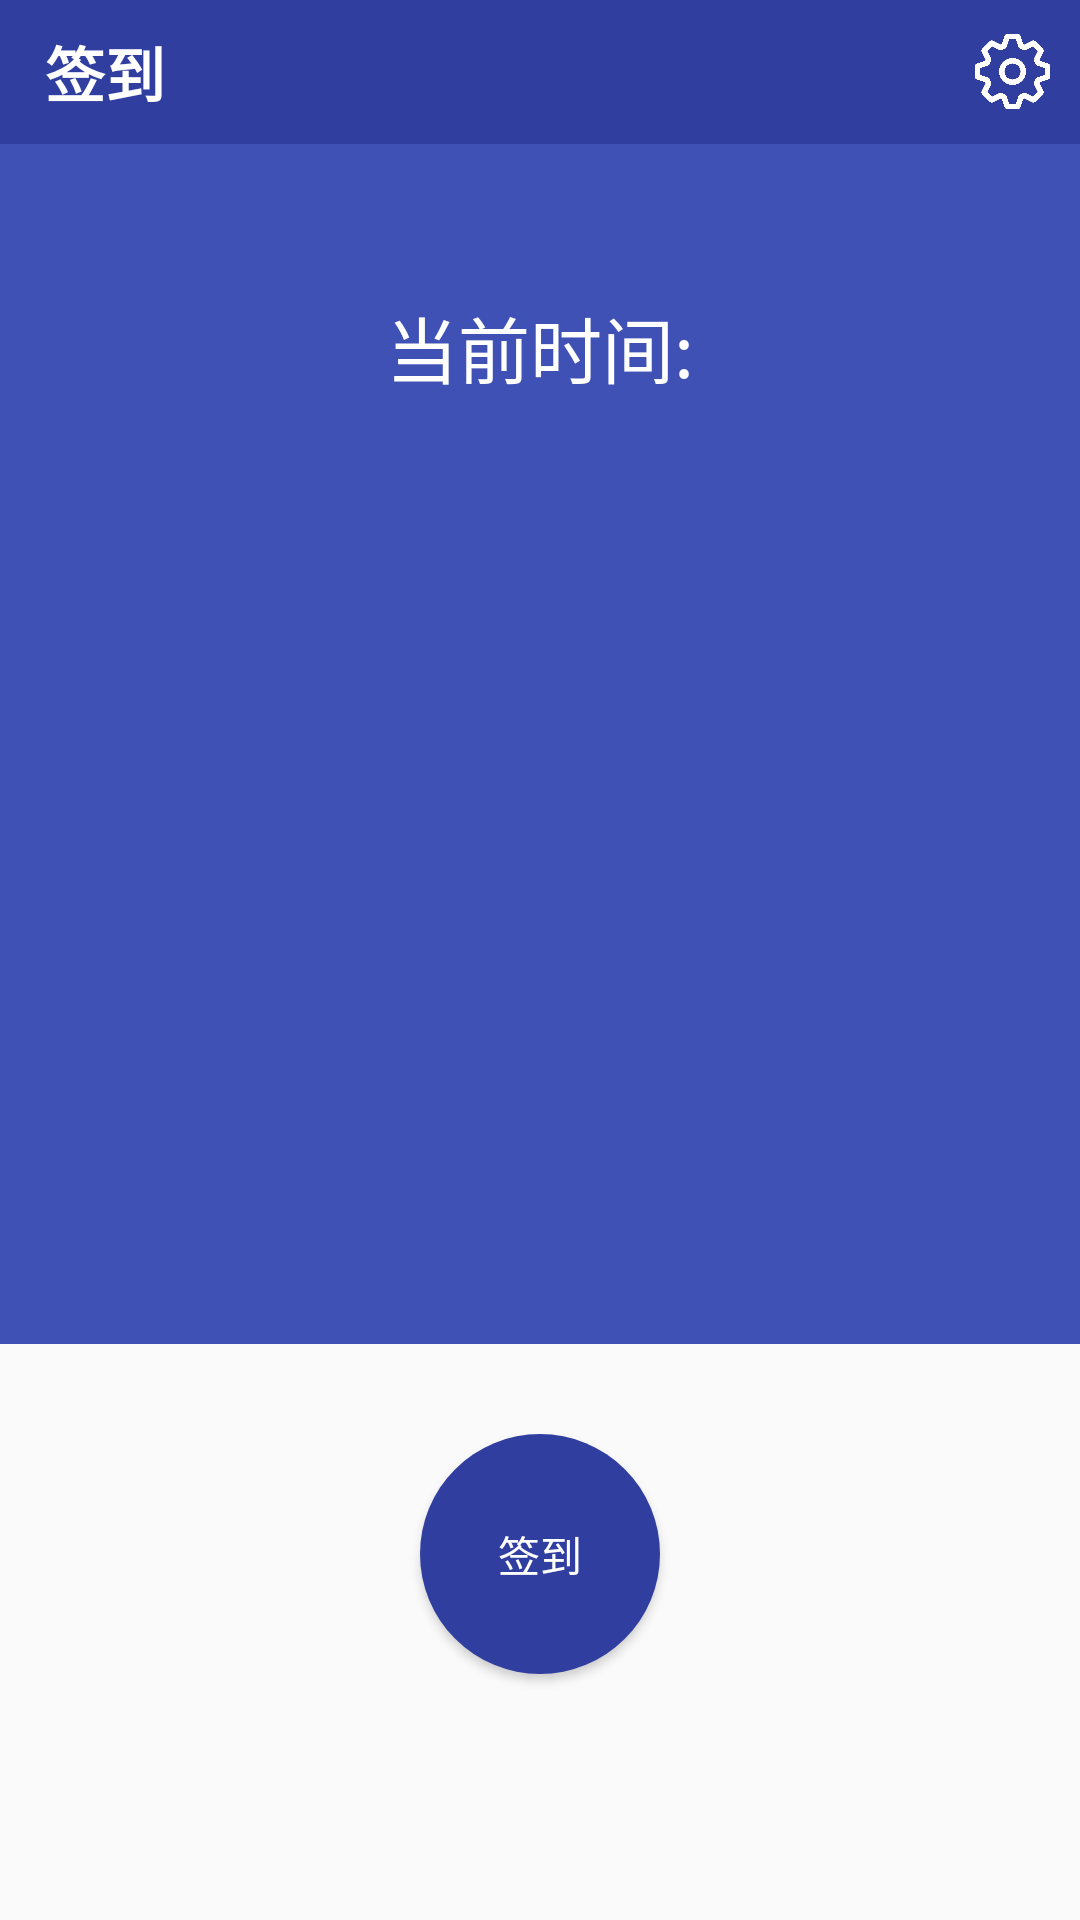

Named icons in this screenshot (1080w x 1920h) and their bounding boxes, box(x1, y1, x2, y2):
settings: box(975, 34, 1050, 109)
